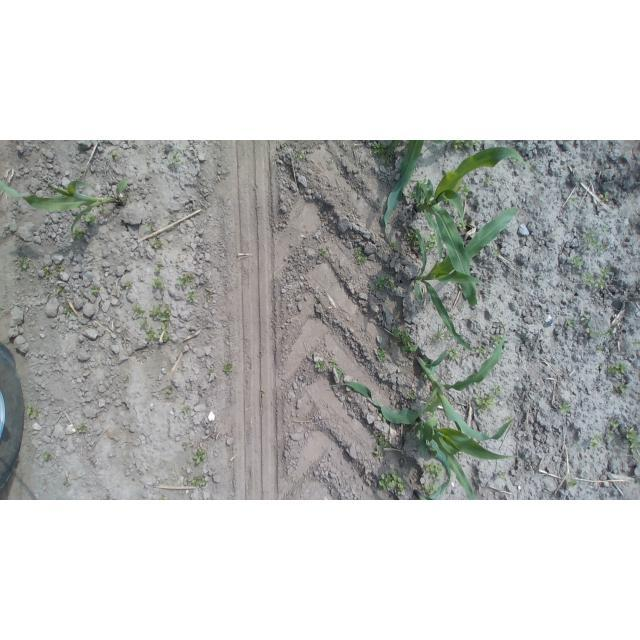Maize: (331, 318, 513, 446), (412, 146, 540, 310), (409, 207, 522, 352), (404, 413, 521, 500), (1, 175, 128, 234), (379, 140, 449, 228)
Weeds: (131, 302, 173, 342), (378, 469, 407, 496), (475, 385, 502, 413), (390, 327, 419, 353), (582, 227, 609, 253), (582, 267, 610, 290), (372, 430, 392, 457), (423, 461, 445, 484), (580, 313, 598, 339), (430, 326, 455, 343), (376, 272, 397, 291), (626, 427, 639, 456), (448, 141, 481, 152), (602, 362, 629, 375), (177, 272, 196, 288), (423, 232, 437, 253), (193, 448, 208, 465), (372, 141, 385, 160), (151, 277, 166, 293), (188, 474, 206, 487), (354, 247, 367, 265), (17, 257, 32, 272), (376, 346, 389, 363), (169, 151, 186, 164), (407, 227, 419, 245), (83, 213, 97, 228), (26, 405, 40, 420), (599, 326, 615, 339), (568, 255, 585, 267), (590, 435, 603, 450), (72, 228, 88, 240), (423, 484, 440, 495), (476, 344, 489, 358), (448, 346, 460, 361), (559, 401, 572, 414), (459, 183, 471, 196), (389, 238, 400, 252), (614, 384, 628, 395), (41, 263, 51, 278), (314, 360, 326, 372), (152, 236, 164, 248), (186, 291, 199, 302), (54, 264, 65, 276), (492, 335, 504, 346), (223, 363, 234, 375), (111, 148, 121, 161), (459, 218, 468, 232), (63, 472, 72, 486), (481, 175, 492, 186), (564, 317, 576, 327), (337, 367, 346, 380), (566, 479, 577, 489), (599, 191, 609, 202), (91, 285, 101, 295), (314, 295, 324, 305), (609, 420, 620, 429), (77, 425, 88, 434), (295, 150, 305, 159), (124, 281, 133, 291), (407, 391, 417, 400), (143, 224, 153, 233), (43, 452, 53, 461), (378, 413, 387, 423), (329, 360, 340, 368), (607, 430, 615, 440), (491, 247, 501, 255), (64, 307, 72, 317), (181, 406, 190, 414), (511, 157, 520, 165), (427, 412, 435, 421), (154, 264, 162, 273), (56, 285, 64, 294), (499, 470, 508, 478), (259, 387, 266, 397), (596, 346, 604, 354), (327, 159, 334, 168), (632, 339, 638, 349), (319, 247, 326, 255), (570, 198, 577, 205), (98, 206, 106, 212), (123, 375, 129, 382), (506, 416, 513, 422), (182, 443, 188, 449), (167, 388, 173, 394), (367, 285, 373, 291), (103, 495, 110, 500), (208, 369, 215, 374), (158, 495, 166, 499), (99, 141, 109, 144)
